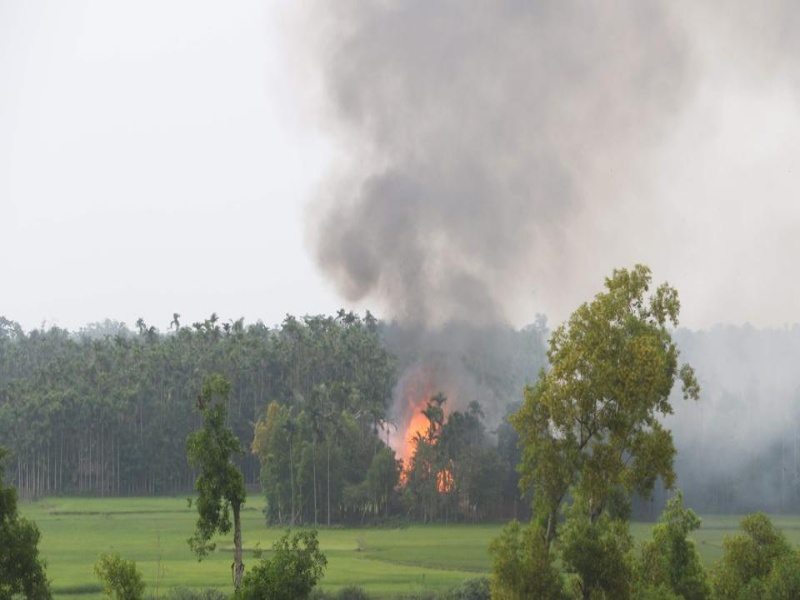smoke: (360, 2, 667, 388)
